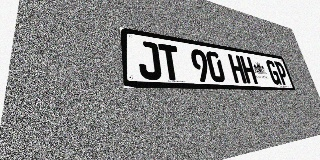0: (205, 51, 226, 83)
9: (190, 48, 211, 82)
G: (265, 60, 282, 85)
H: (228, 54, 247, 83), (239, 56, 258, 84)
J: (137, 40, 162, 80)
P: (274, 61, 290, 85)
T: (158, 43, 182, 81)
